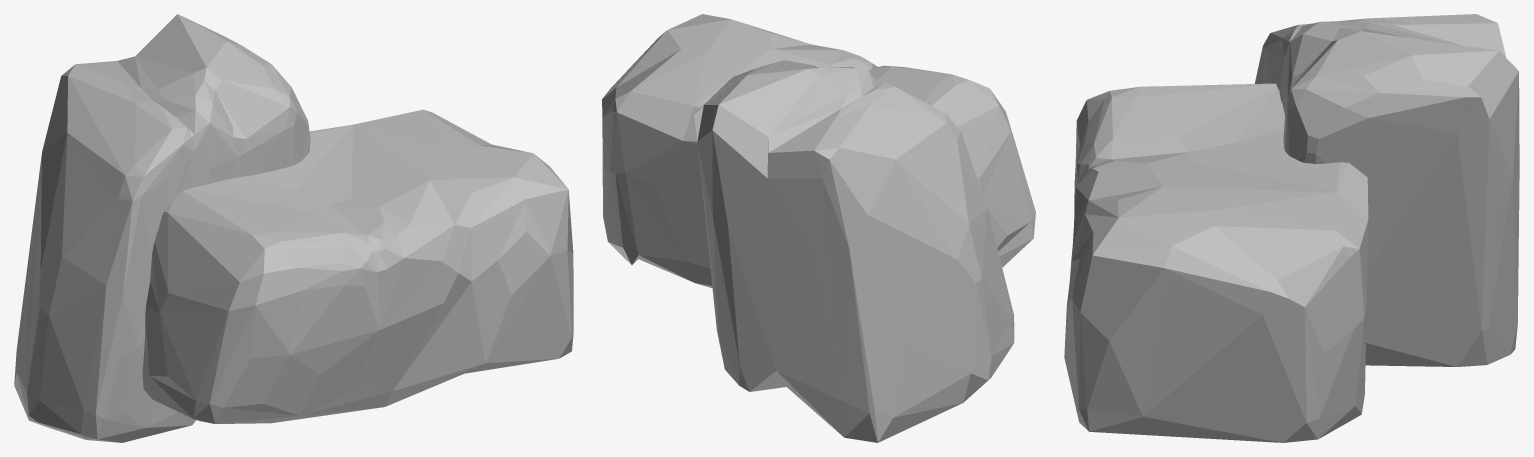
The model's file is Rock_032.glb.
The picture shows the model from 3 angles, left to right: view 1: azimuth 30°, elevation 25°; view 2: azimuth 150°, elevation 25°; view 3: azimuth 270°, elevation 25°; orthographic projection. The views are drawn at different scales.
Visible parts, largest first — view 1: Rock_032; view 2: Rock_032; view 3: Rock_032.
Boxes of the visible parts, <box> form: Rock_032: <box>14,14,573,442</box>; Rock_032: <box>602,14,1035,442</box>; Rock_032: <box>1064,14,1519,442</box>.
Size of the model in its own units: 4.35 by 3.1 by 3.56.
1 material, 1 textured.
